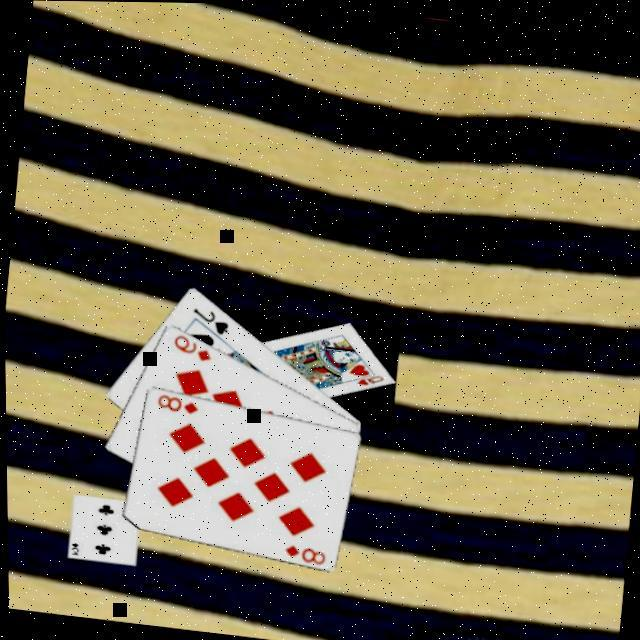8D: (149, 389, 198, 417), (276, 539, 324, 567)
9D: (165, 329, 212, 365)
JS: (184, 303, 229, 339)
